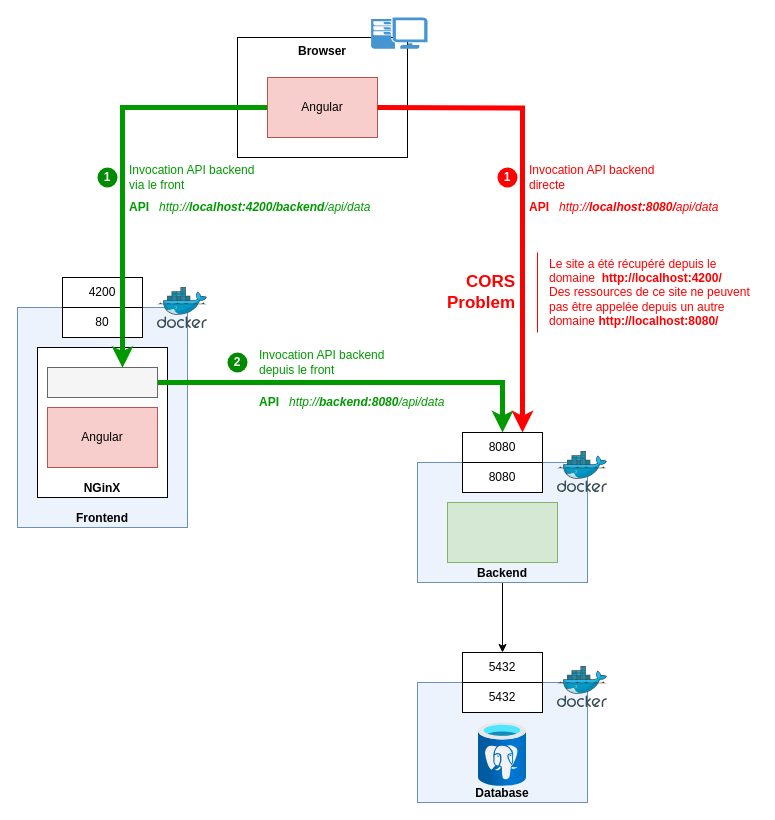
Image size: 775x820. Some labels were removed from this diagram. The centre of each missing label's shape, as x and y in pixels:
Proxy: point 102,382
SpringBoot: point 502,532
